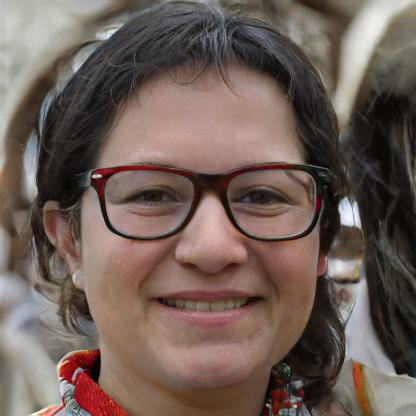glasses: (87, 155, 331, 245)
